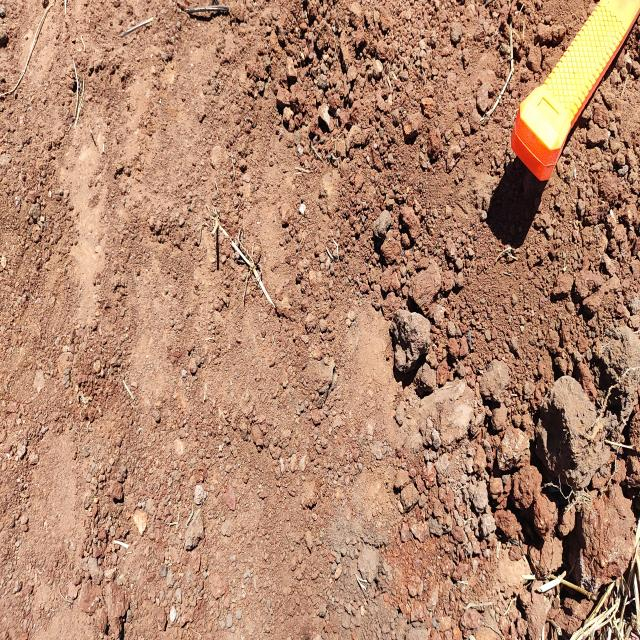Orange_hammer: (510, 0, 639, 183)
